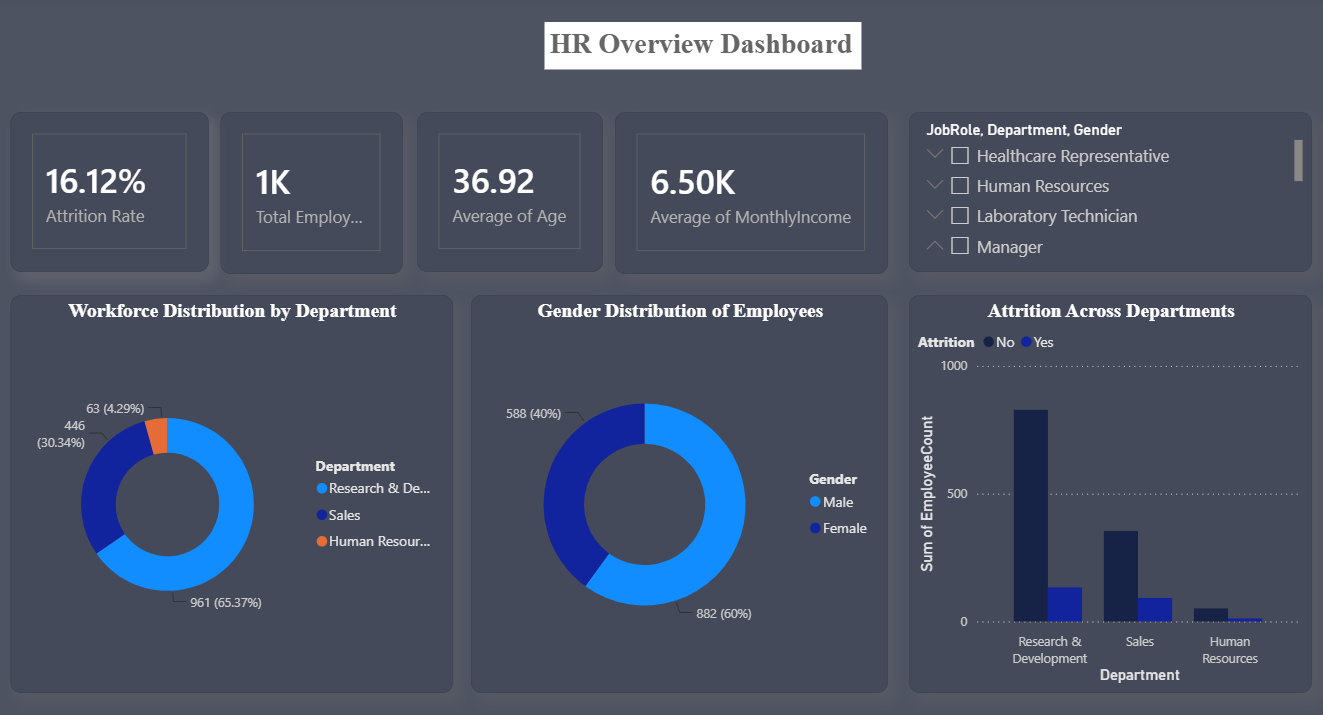

Layout of this report page (visuals, bound fields, positions):
{"tool":"powerbi","page":{"name":"HR Overview","canvas":[1280,720],"ordinal":0},"visuals":[{"type":"textbox","box":[525.4,25.7,302.8,45.4],"z":0},{"type":"cardVisual","fields":{"Data":["HR.Attrition Rate"]},"box":[15.1,112.1,189.3,152.9],"z":1000},{"type":"cardVisual","fields":{"Data":["HR.Total Employees"]},"box":[216.5,112.1,174.1,154.4],"z":2000},{"type":"cardVisual","fields":{"Data":["Avg(HR.Age)"]},"box":[404.3,112.1,177.2,152.9],"z":3000},{"type":"cardVisual","fields":{"Data":["Avg(HR.MonthlyIncome)"]},"box":[593.6,112.1,260.4,154.4],"z":4000},{"type":"donutChart","title":"Workforce Distribution by Department","fields":{"Category":["HR.Department"],"Y":["Sum(HR.EmployeeCount)"]},"box":[15.1,286.2,422.5,380.1],"z":5000},{"type":"donutChart","title":"Gender Distribution of Employees","fields":{"Category":["HR.Gender"],"Y":["Sum(HR.EmployeeCount)"]},"box":[455.8,286.2,398.2,380.1],"z":6000},{"type":"clusteredColumnChart","title":"Attrition Across Departments","fields":{"Category":["HR.Department"],"Y":["Sum(HR.EmployeeCount)"],"Series":["HR.Attrition"]},"box":[873.7,286.2,384.6,380.1],"z":7000},{"type":"slicer","fields":{"Values":["HR.JobRole","HR.Department","HR.Gender"]},"box":[873.7,112.1,384.6,152.9],"z":8000}]}

Visuals, with their boxes on the page's 1280x720 design canvas (x1, y1, x2, y2). These are canvas units, not pixel positions in the 1323x715 screenshot, which may show the page scaled, cropped or inside an application window:
textbox: Rect(525, 26, 828, 71)
cardVisual - HR.Attrition Rate: Rect(15, 112, 204, 265)
cardVisual - HR.Total Employees: Rect(216, 112, 391, 266)
cardVisual - Avg(HR.Age): Rect(404, 112, 582, 265)
cardVisual - Avg(HR.MonthlyIncome): Rect(594, 112, 854, 266)
"Workforce Distribution by Department" donutChart: Rect(15, 286, 438, 666)
"Gender Distribution of Employees" donutChart: Rect(456, 286, 854, 666)
"Attrition Across Departments" clusteredColumnChart: Rect(874, 286, 1258, 666)
slicer - HR.JobRole x HR.Department: Rect(874, 112, 1258, 265)
